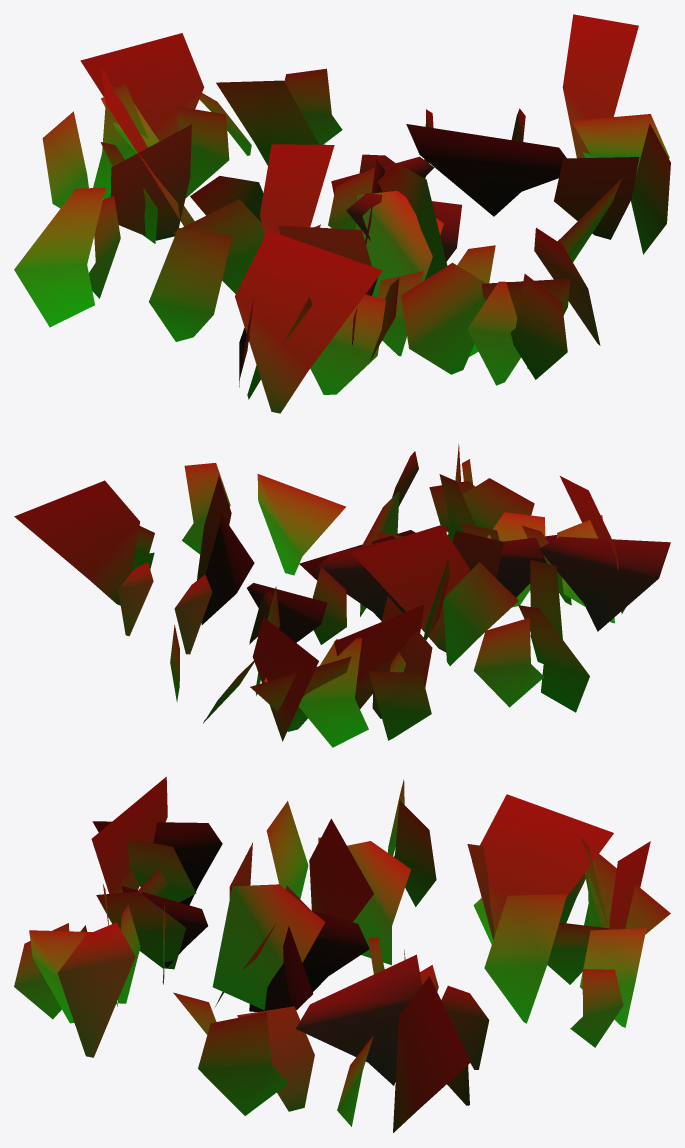
Rendered from Grass Clumps_LOD1_Var2_rbojr.fbx.
The picture shows the model from 3 angles, top to bottom: view 1: azimuth 30°, elevation 25°; view 2: azimuth 150°, elevation 25°; view 3: azimuth 270°, elevation 25°; orthographic projection. The views are drawn at different scales.
Visible parts, largest first — view 1: _2242_Var2_LOD1; view 2: _2242_Var2_LOD1; view 3: _2242_Var2_LOD1.
Boxes of the visible parts, box(x1,y1,x2,y2) form: _2242_Var2_LOD1: box(14, 14, 670, 413); _2242_Var2_LOD1: box(14, 444, 670, 747); _2242_Var2_LOD1: box(14, 776, 670, 1132).
Size of the model in its own units: 86.29 by 21.21 by 78.81.
